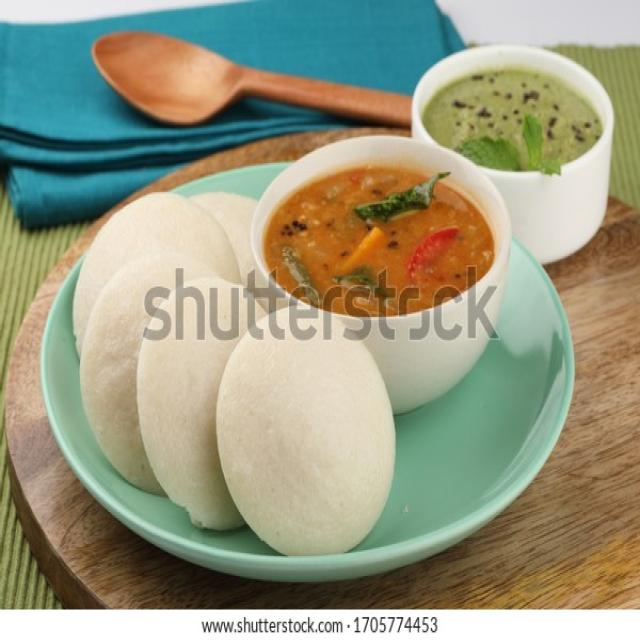IDLI: (72, 190, 396, 557)
